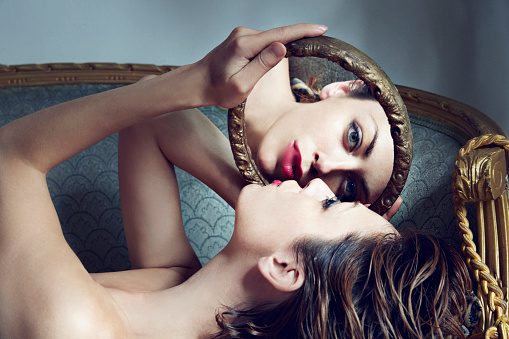deitado: (68, 29, 431, 338)
